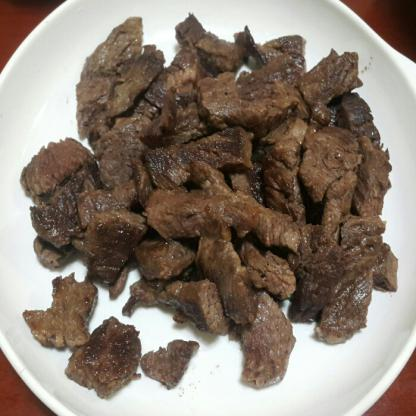Carne: (146, 168, 384, 248), (92, 58, 185, 184), (70, 11, 150, 140), (298, 237, 384, 338), (123, 275, 243, 337), (192, 66, 304, 125), (63, 323, 148, 394), (143, 126, 259, 178), (171, 8, 262, 70), (17, 276, 93, 347), (208, 228, 264, 323), (312, 123, 357, 236), (242, 236, 315, 305), (293, 48, 363, 118), (244, 292, 294, 387), (35, 165, 92, 246), (17, 140, 90, 193), (93, 209, 142, 287), (141, 337, 205, 391), (89, 127, 145, 181), (143, 236, 197, 276)
